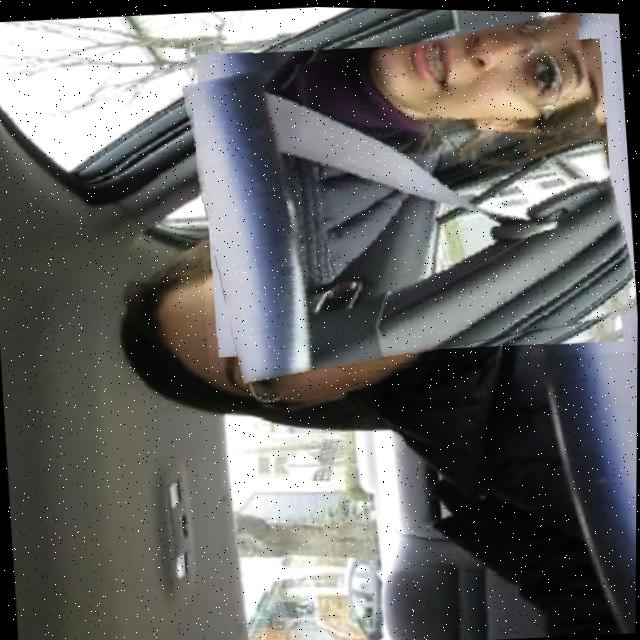seatbelt: (186, 11, 634, 378)
